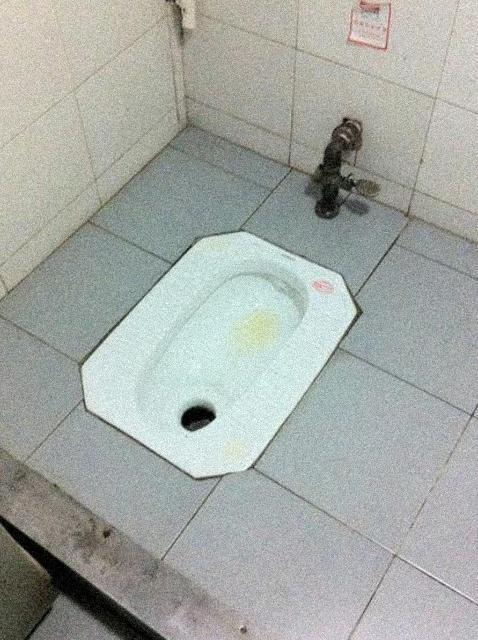Sanitario: (62, 96, 445, 499)
